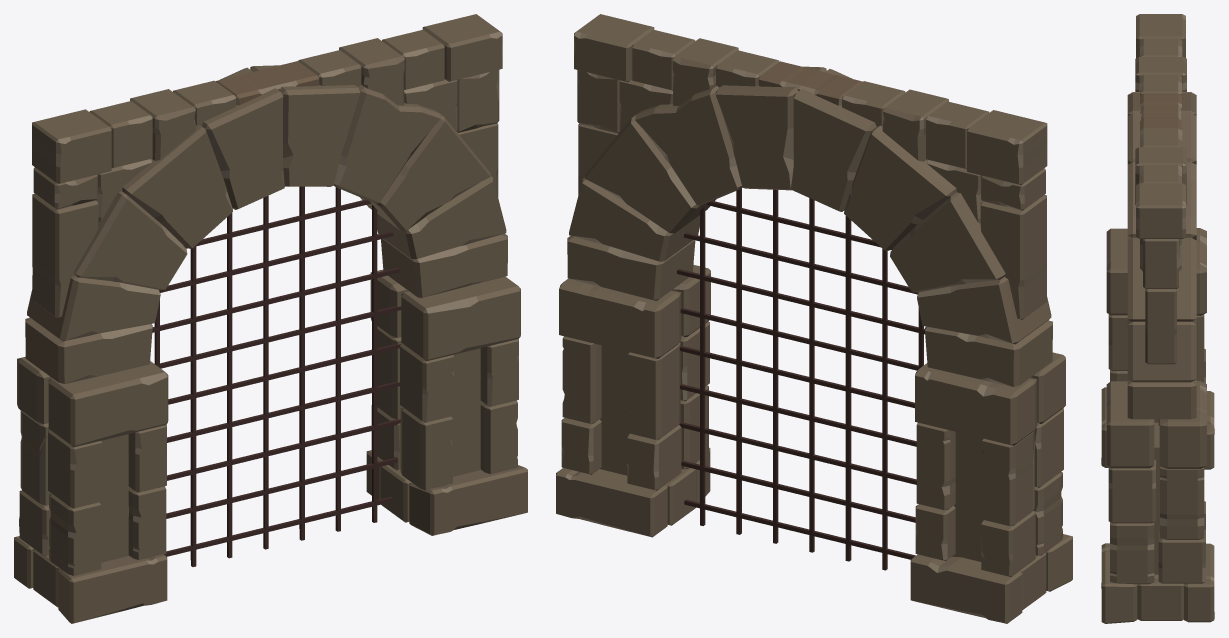
Rendered from Arch_bars.fbx.
The picture shows the model from 3 angles, left to right: view 1: azimuth 30°, elevation 25°; view 2: azimuth 150°, elevation 25°; view 3: azimuth 270°, elevation 25°; orthographic projection. The views are drawn at different scales.
Parts seen in each view (by area): view 1: Arch, Arch_bars; view 2: Arch, Arch_bars; view 3: Arch.
Part boxes in pixels (<box>): Arch: <box>14,14,527,623</box>; Arch_bars: <box>152,186,401,566</box>; Arch: <box>556,14,1072,623</box>; Arch_bars: <box>677,188,924,570</box>; Arch: <box>1101,14,1214,623</box>.
Size of the model in its own units: 410 by 404 by 99.26.
